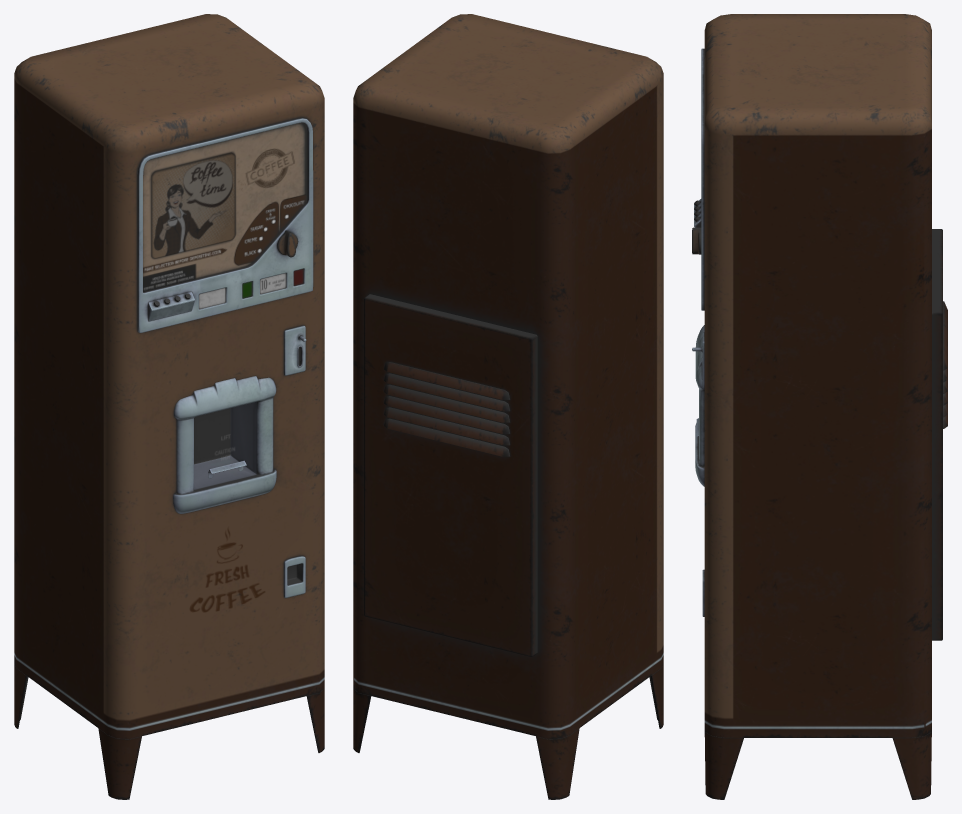
File: vending.glb
3 views of the same model, side by side, from view 1: azimuth 30°, elevation 25°; view 2: azimuth 150°, elevation 25°; view 3: azimuth 270°, elevation 25° (orthographic). The views are drawn at different scales.
Visible parts, largest first — view 1: vending_m0, vending_m1; view 2: vending_m0; view 3: vending_m0.
Boxes of the visible parts, <box> form: vending_m0: <box>14,14,324,799</box>; vending_m1: <box>150,151,236,259</box>; vending_m0: <box>353,14,663,799</box>; vending_m0: <box>692,14,947,799</box>.
Bounding box in the file's own units: 0.5383 × 1.59 × 0.541.
2 materials, 1 textured.
